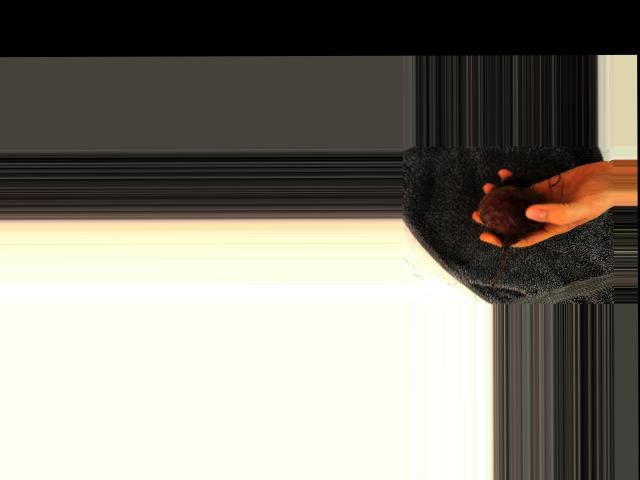beet: (477, 178, 546, 289)
